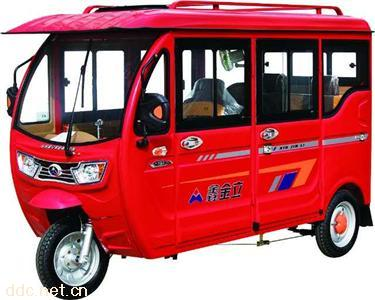MNV: (4, 7, 375, 295)
